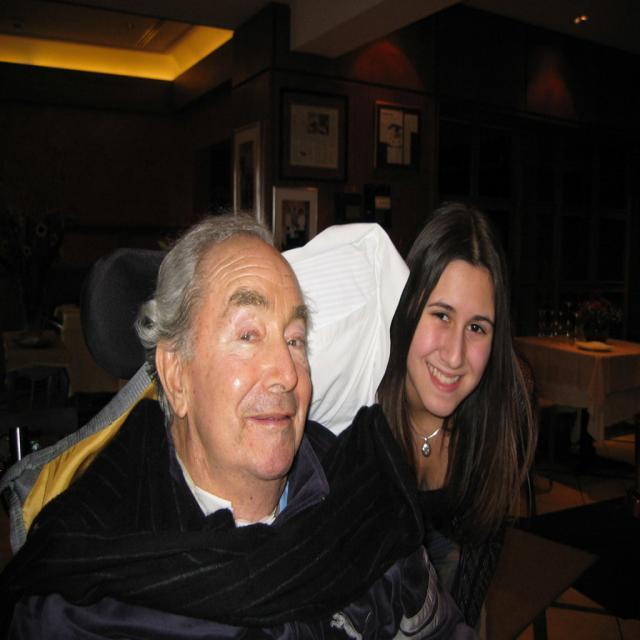closed-mouth: (250, 411, 295, 428)
